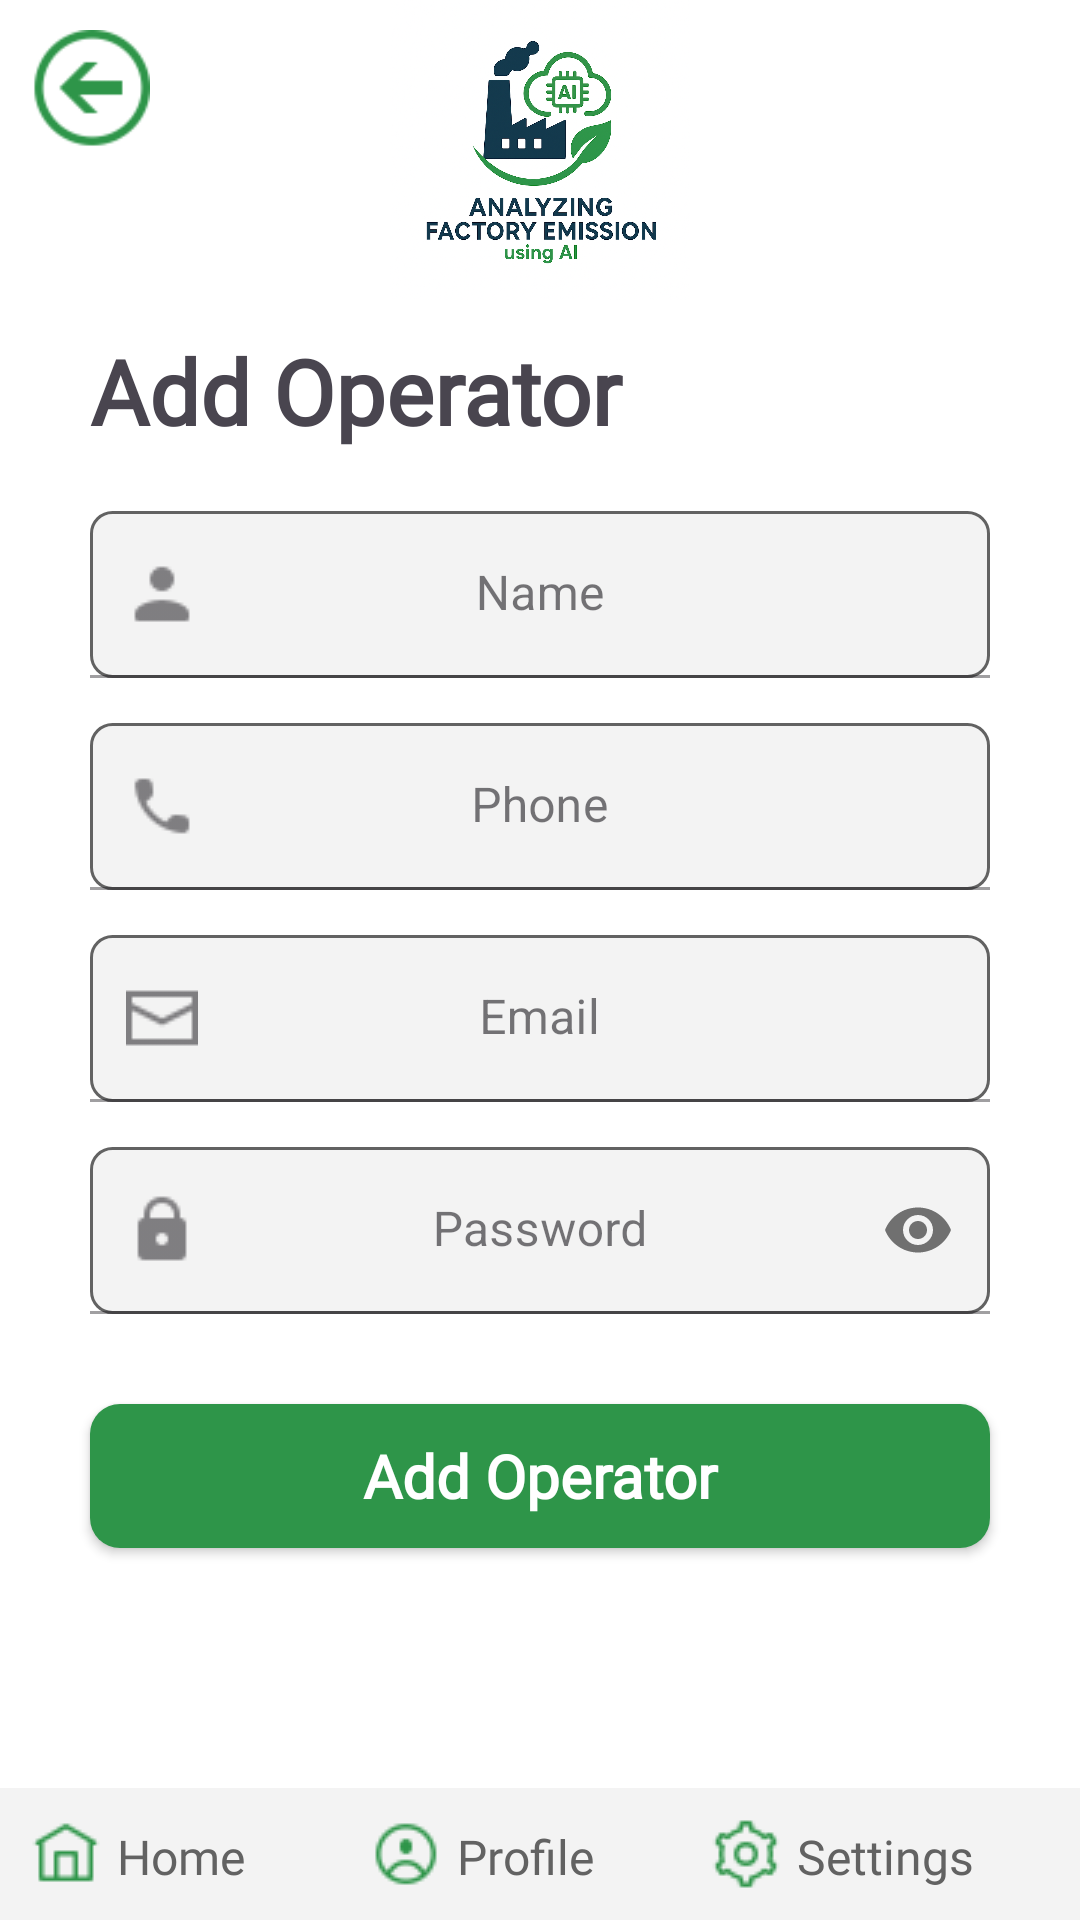

Point at icon controls on the screen. Image size 1080 × 1920, points as point (x, y).
back: point (92, 88)
